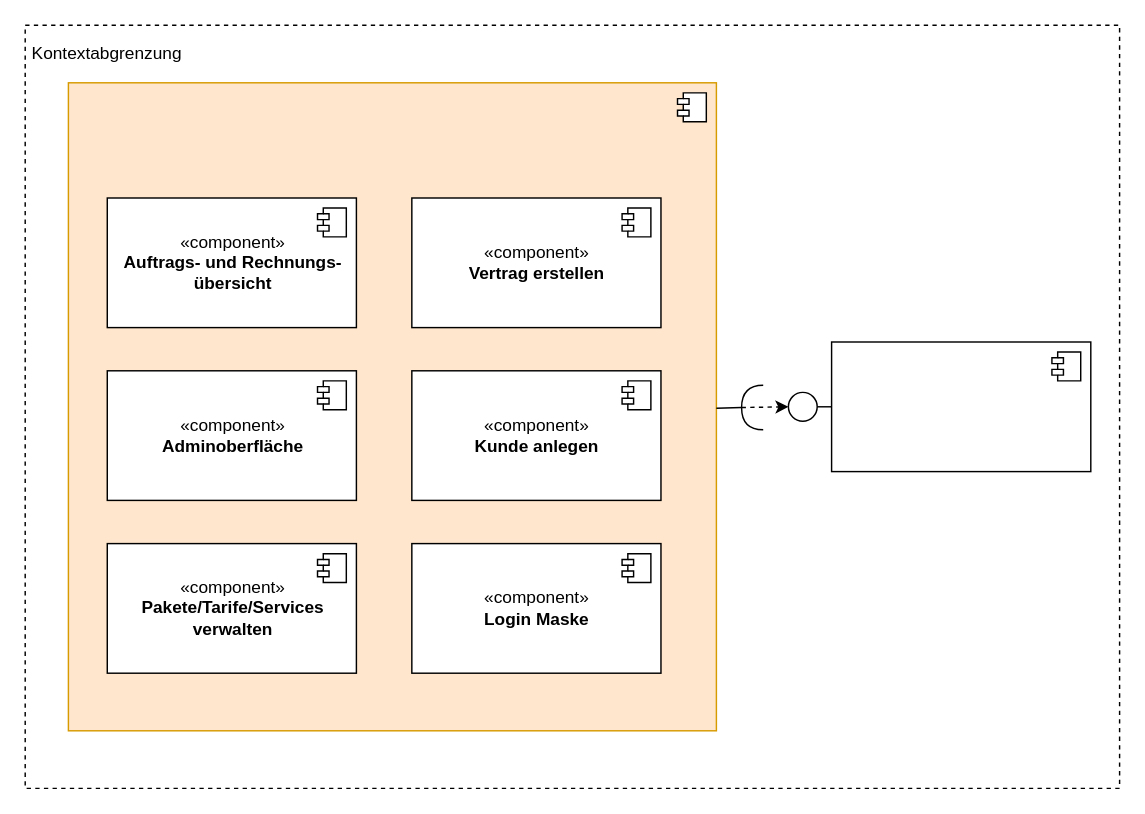
This 1145x814 diagram has some shape labels left out. The box of each missing label's shape, as (x1, y1, x2, y2) in pixels:
«component» Vertragsmanagement: (830, 341, 1091, 472)
«component» Webapplikation: (67, 81, 716, 731)
